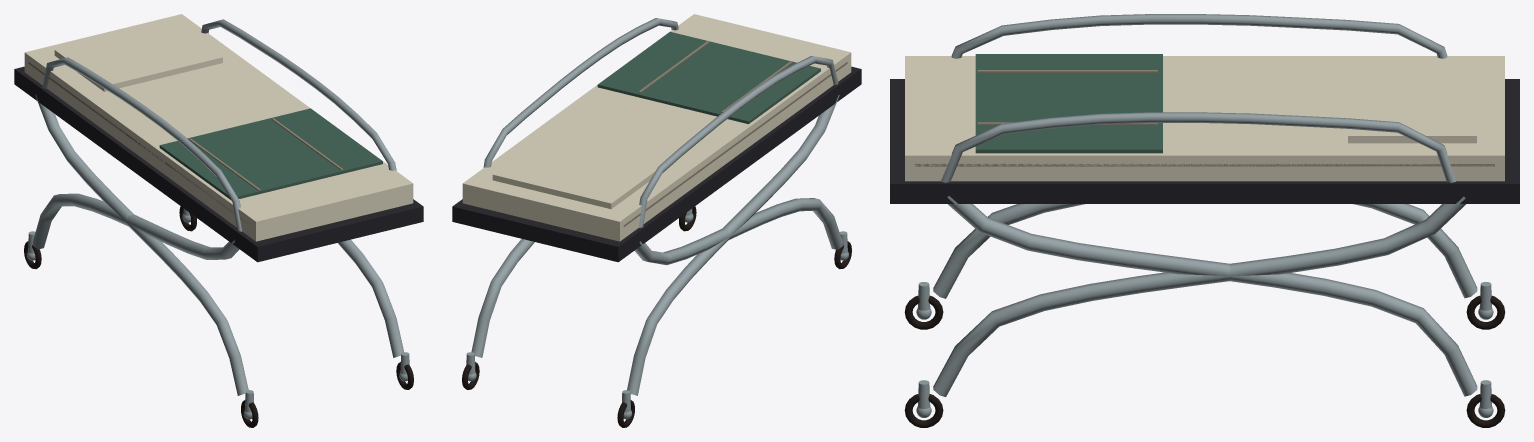
Rendered from mia-gurney.glb.
3 renders of one model, left to right at view 1: azimuth 30°, elevation 25°; view 2: azimuth 150°, elevation 25°; view 3: azimuth 270°, elevation 25°, orthographic. The views are drawn at different scales.
Parts seen in each view (by area): view 1: Body_mattress, Body_steel, Body_sage, Body_iron, Body_black, Body_mattress-seam; view 2: Body_mattress, Body_steel, Body_sage, Body_iron, Body_black, Body_mattress-seam; view 3: Body_mattress, Body_steel, Body_iron, Body_sage, Body_black, Body_mattress-seam.
Part boxes in pixels (x1,y1,x2,y2): Body_mattress: (24, 14, 413, 241); Body_steel: (27, 19, 409, 419); Body_sage: (159, 108, 382, 199); Body_iron: (14, 66, 423, 262); Body_black: (24, 206, 413, 427); Body_mattress-seam: (28, 62, 343, 224); Body_mattress: (462, 14, 851, 241); Body_steel: (466, 18, 848, 419); Body_sage: (597, 31, 820, 124); Body_iron: (452, 66, 861, 262); Body_black: (462, 206, 851, 427); Body_mattress-seam: (623, 40, 847, 226); Body_mattress: (905, 56, 1504, 181); Body_steel: (916, 14, 1493, 417); Body_iron: (890, 79, 1519, 203); Body_sage: (975, 54, 1162, 153); Body_black: (904, 295, 1505, 427); Body_mattress-seam: (915, 70, 1494, 166).
Size of the model in its own units: 0.75 by 1.04 by 1.89.
